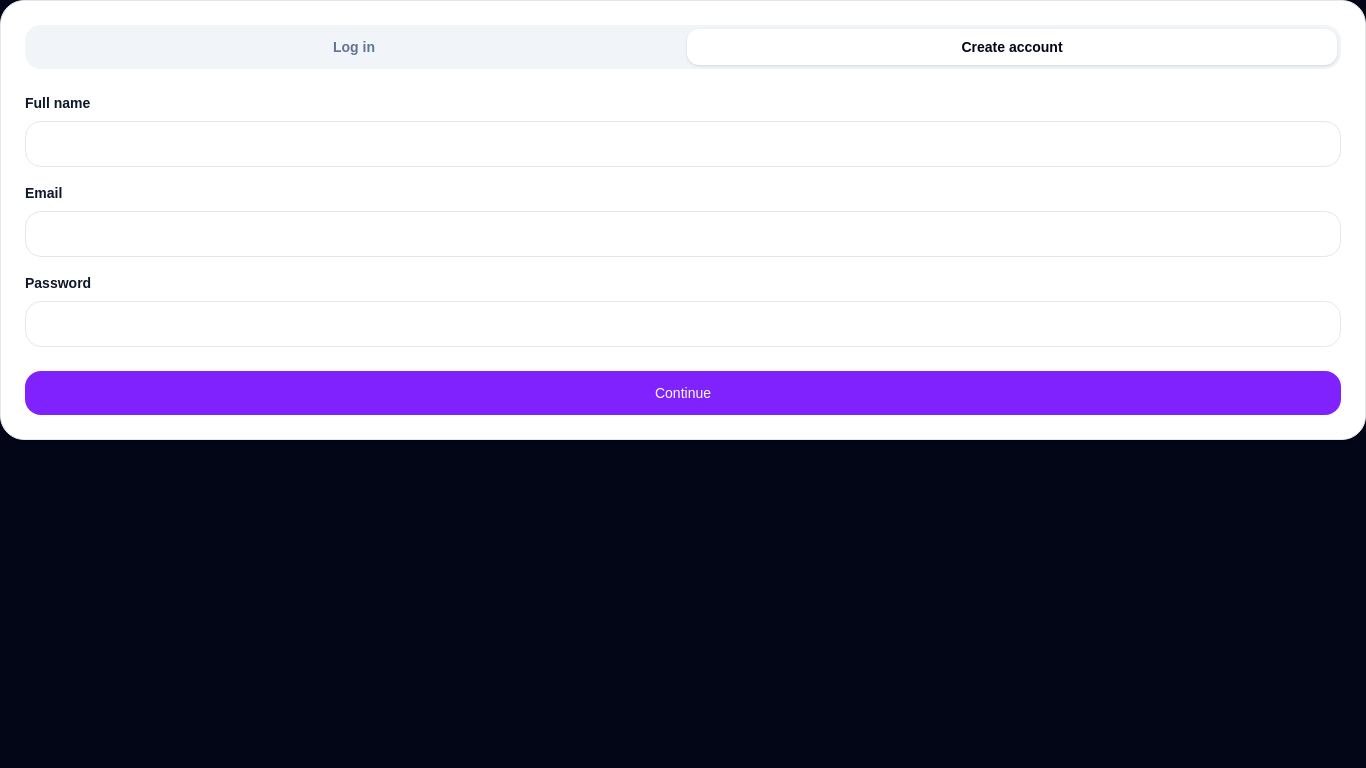
Scenario: AuthForm › shows field-level validation and does not submit empty signup data
Click the button "Continue".
click(683, 393)  # box top-left (25, 371), bottom-right (1341, 415)
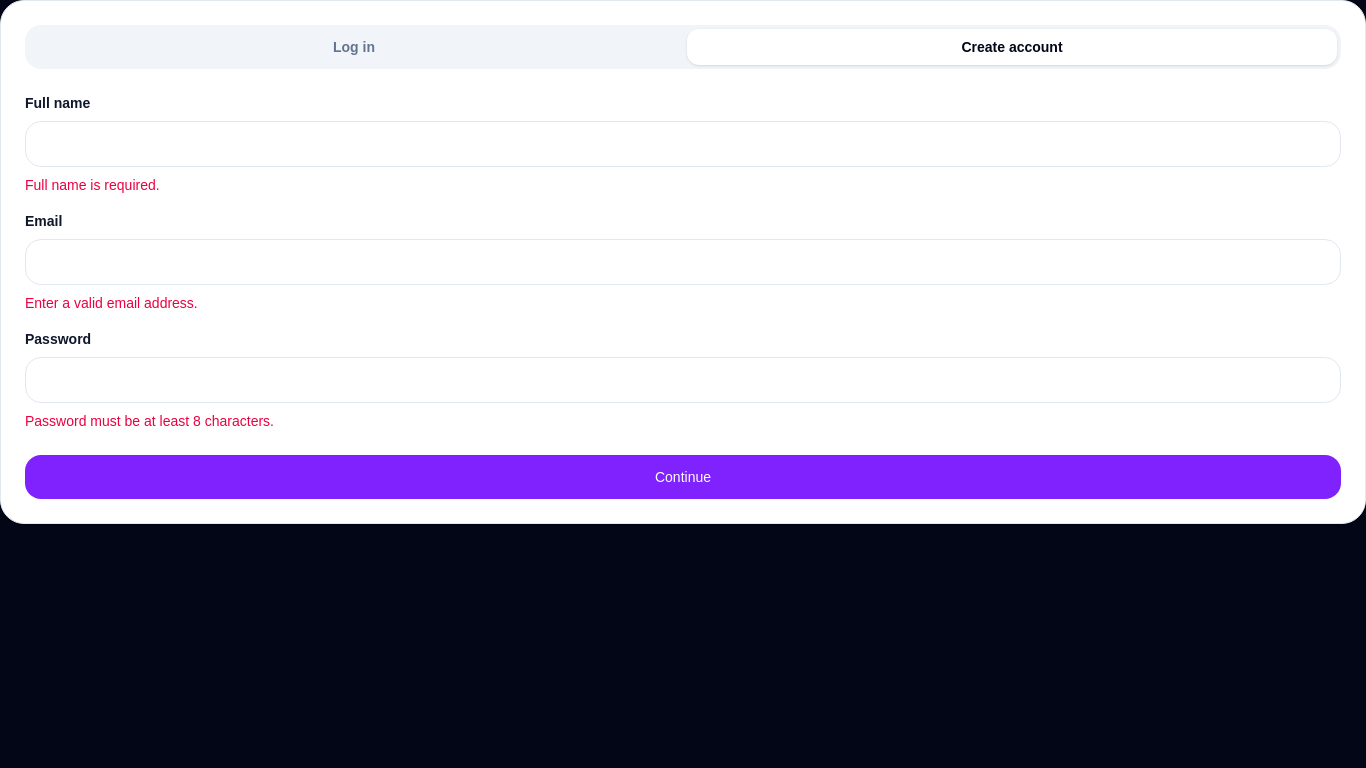
Result: the text "Full name is required." is shown at top-left (25, 177), bottom-right (160, 193)
Result: the text "Enter a valid email address." is shown at top-left (25, 295), bottom-right (198, 311)
Result: the text "Password must be at least 8 characters." is shown at top-left (25, 413), bottom-right (274, 429)
